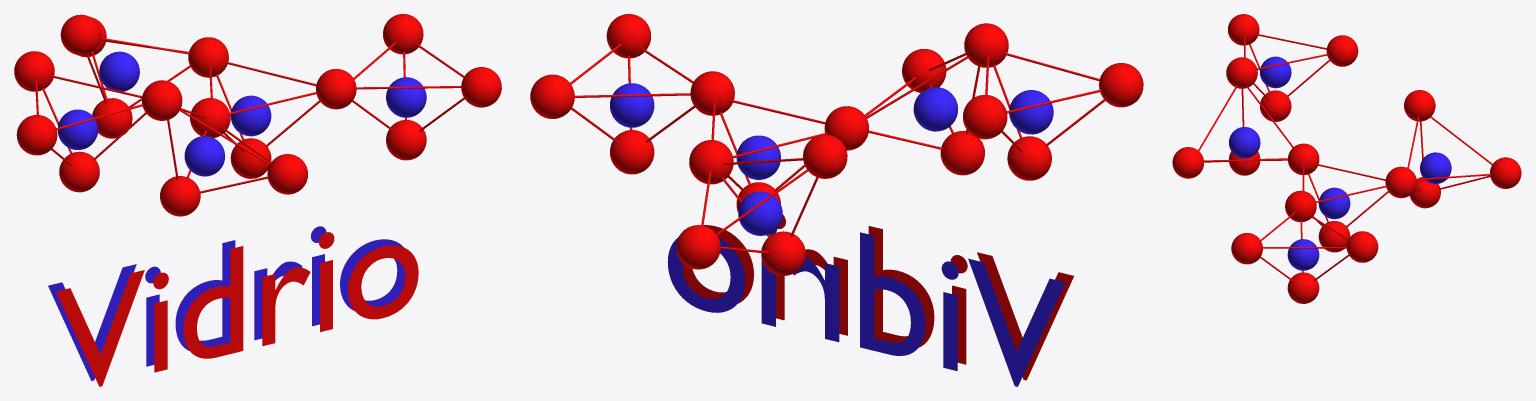
The model's file is vidrio.obj.
3 renders of one model, left to right at view 1: azimuth 30°, elevation 25°; view 2: azimuth 150°, elevation 25°; view 3: azimuth 270°, elevation 25°, orthographic. The views are drawn at different scales.
Parts seen in each view (by area): view 1: Text.014_Text.222, Text.013_Text.223, Sphere.665_Sphere.344, Sphere.673_Sphere.353, Sphere.676_Sphere.357, Sphere.660_Sphere.340, Sphere.668_Sphere.348, Sphere.669_Sphere.349, Sphere.674_Sphere.354, Sphere.671_Sphere.351, Sphere.662_Sphere.342, Sphere.664_Sphere.346 (+10 smaller); view 2: Text.013_Text.223, Text.014_Text.222, Sphere.675_Sphere.356, Sphere.667_Sphere.347, Sphere.674_Sphere.354, Sphere.676_Sphere.357, Sphere.663_Sphere.343, Sphere.668_Sphere.348, Sphere.662_Sphere.342, Sphere.659_Sphere.355, Sphere.664_Sphere.346, Sphere.671_Sphere.351 (+10 smaller); view 3: Sphere.663_Sphere.343, Sphere.665_Sphere.344, Sphere.673_Sphere.353, Sphere.674_Sphere.354, Sphere.675_Sphere.356, Sphere.658_Sphere.339, Sphere.667_Sphere.347, Sphere.662_Sphere.342, Sphere.676_Sphere.357, Sphere.669_Sphere.349, Sphere.672_Sphere.352, Sphere.668_Sphere.348 (+9 smaller).
Part boxes in pixels (box(x1,y1,x2,y2)): Text.014_Text.222: box(56, 232, 418, 386); Text.013_Text.223: box(48, 226, 405, 380); Sphere.665_Sphere.344: box(461, 67, 501, 107); Sphere.673_Sphere.353: box(267, 154, 307, 194); Sphere.676_Sphere.357: box(60, 14, 101, 55); Sphere.660_Sphere.340: box(316, 69, 356, 109); Sphere.668_Sphere.348: box(16, 115, 57, 155); Sphere.669_Sphere.349: box(141, 80, 182, 120); Sphere.674_Sphere.354: box(184, 136, 225, 176); Sphere.671_Sphere.351: box(160, 176, 200, 216); Sphere.662_Sphere.342: box(386, 120, 426, 160); Sphere.664_Sphere.346: box(59, 151, 99, 192); Text.013_Text.223: box(667, 228, 1065, 386); Text.014_Text.222: box(682, 214, 1073, 380); Sphere.675_Sphere.356: box(676, 225, 720, 269); Sphere.667_Sphere.347: box(963, 94, 1007, 139); Sphere.674_Sphere.354: box(913, 87, 957, 131); Sphere.676_Sphere.357: box(803, 134, 847, 178); Sphere.663_Sphere.343: box(530, 74, 574, 118); Sphere.668_Sphere.348: box(1099, 63, 1143, 107); Sphere.662_Sphere.342: box(610, 130, 654, 174); Sphere.659_Sphere.355: box(761, 231, 805, 275); Sphere.664_Sphere.346: box(1007, 136, 1051, 180); Sphere.671_Sphere.351: box(940, 131, 984, 175); Sphere.663_Sphere.343: box(1346, 231, 1378, 262); Sphere.665_Sphere.344: box(1231, 233, 1262, 264); Sphere.673_Sphere.353: box(1172, 147, 1203, 178); Sphere.674_Sphere.354: box(1229, 127, 1260, 158); Sphere.675_Sphere.356: box(1490, 157, 1521, 188); Sphere.658_Sphere.339: box(1385, 166, 1416, 198); Sphere.667_Sphere.347: box(1326, 35, 1358, 66); Sphere.662_Sphere.342: box(1287, 272, 1319, 303); Sphere.676_Sphere.357: box(1404, 90, 1435, 121); Sphere.669_Sphere.349: box(1226, 57, 1257, 88); Sphere.672_Sphere.352: box(1287, 143, 1319, 174); Sphere.668_Sphere.348: box(1228, 14, 1259, 45).
Size of the model in its own units: 17.88 by 10.73 by 14.39.
